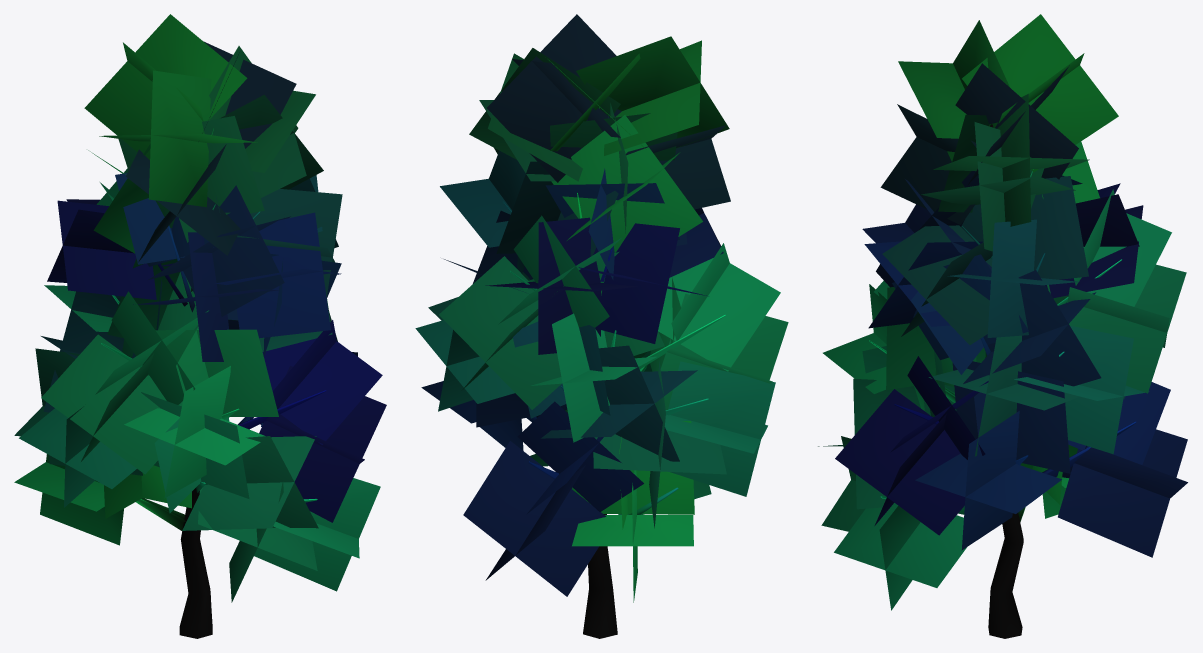
Rendered from tree 2 lod2.FBX.
3 renders of one model, left to right at view 1: azimuth 30°, elevation 25°; view 2: azimuth 150°, elevation 25°; view 3: azimuth 270°, elevation 25°, orthographic. The views are drawn at different scales.
Visible parts, largest first — view 1: Tree lod2; view 2: Tree lod2; view 3: Tree lod2.
Boxes of the visible parts, x1,y1,x2,y2 form: Tree lod2: (14,14,386,638); Tree lod2: (415,14,788,638); Tree lod2: (818,14,1187,638).
Bounding box in the file's own units: 3.56 × 6.03 × 3.44.
